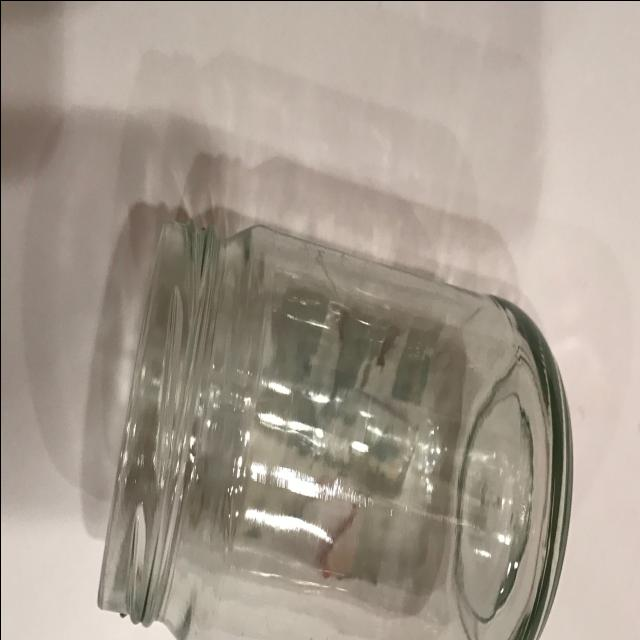glass: (87, 198, 593, 640)
